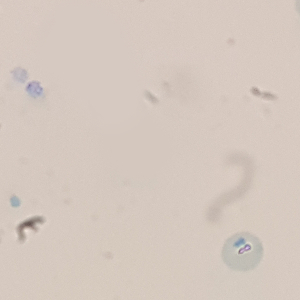erythrocyte: (219, 231, 266, 274)
